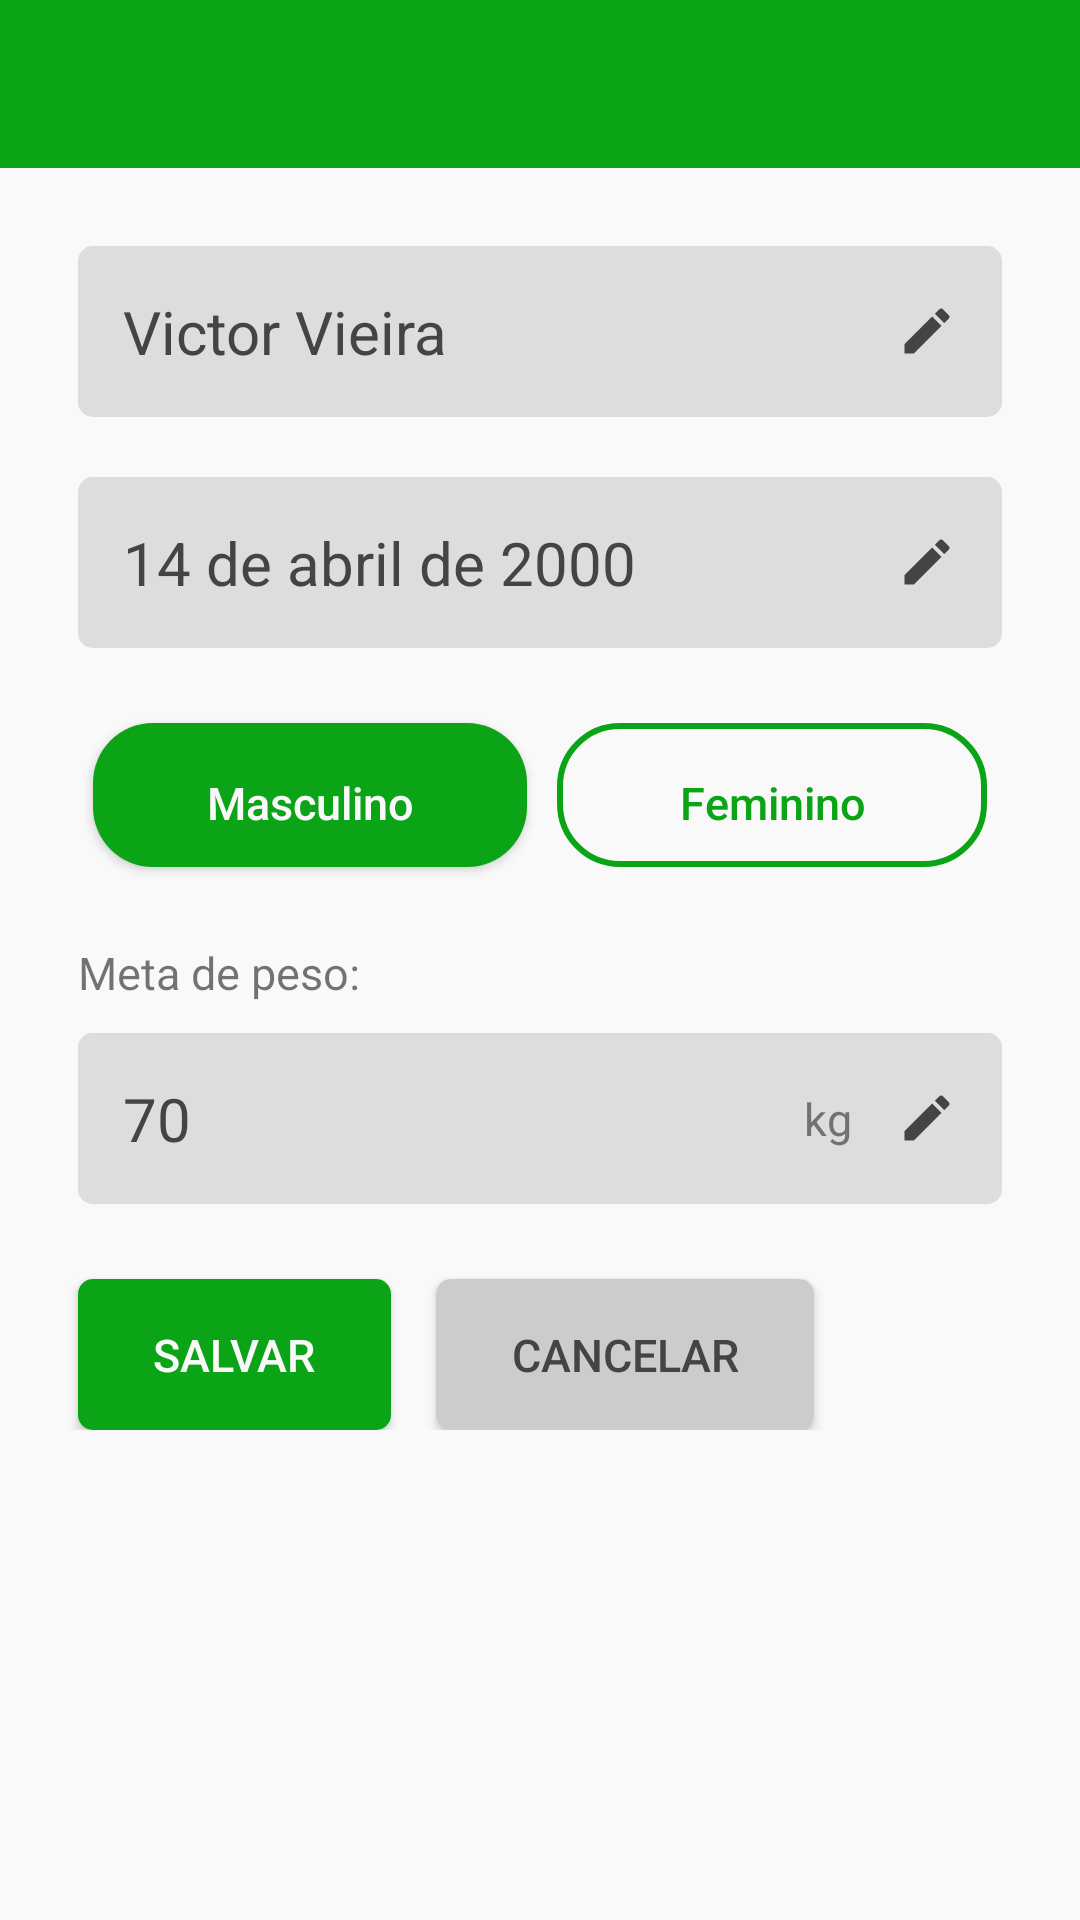

Icon click points for this 1080w x 1920h phone screenshot, format (x,y):
mode edit: (927,331), (927,562), (927,1118)
